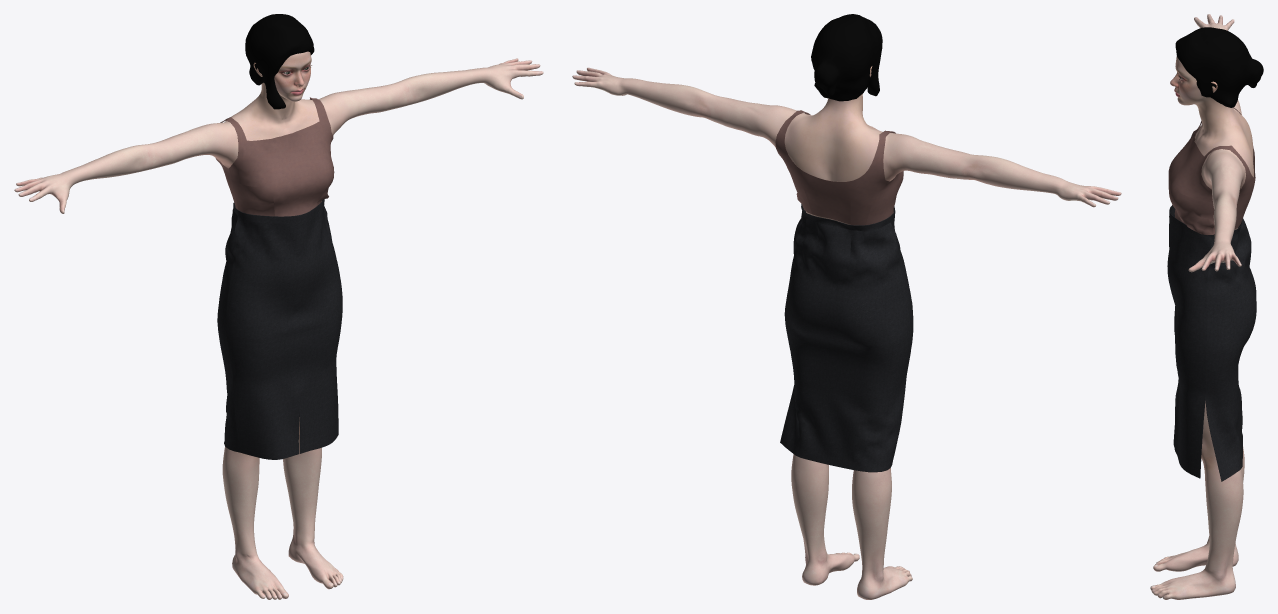
File: Dramatic.obj
3 renders of one model, left to right at view 1: azimuth 30°, elevation 25°; view 2: azimuth 150°, elevation 25°; view 3: azimuth 270°, elevation 25°, orthographic. The views are drawn at different scales.
Bounding box in the file's own units: 1744 × 1763 × 328.
